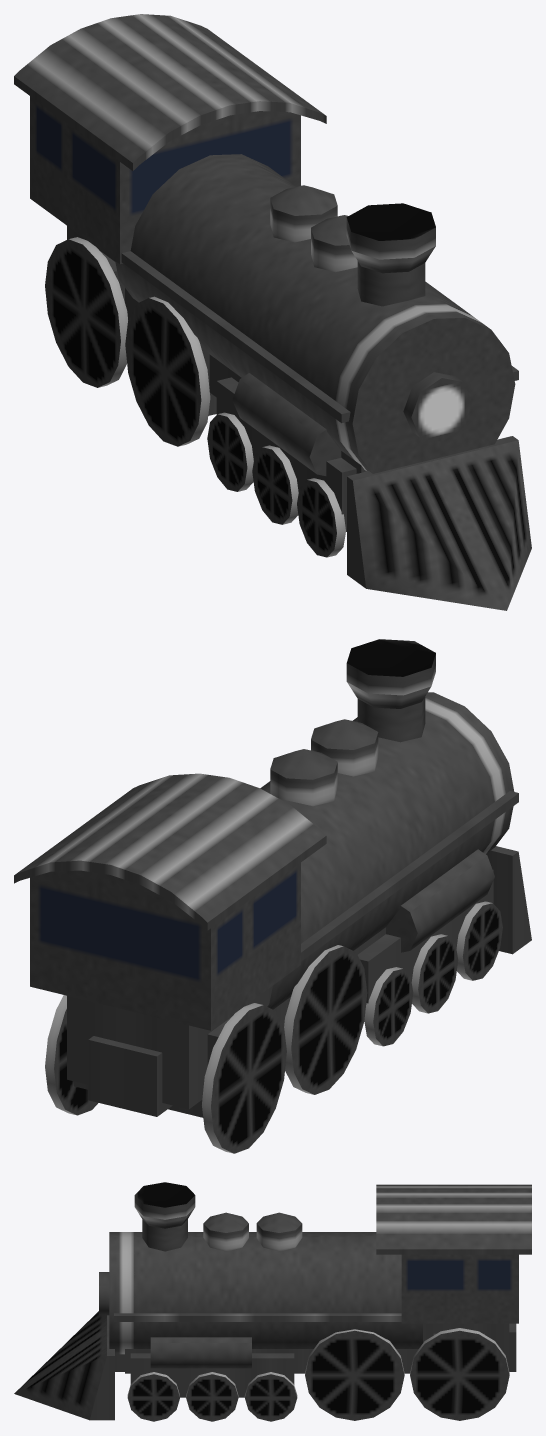
The model's file is trainEngine 1.fbx.
3 views of the same model, one above another, from view 1: azimuth 30°, elevation 25°; view 2: azimuth 150°, elevation 25°; view 3: azimuth 270°, elevation 25° (orthographic). The views are drawn at different scales.
Parts seen in each view (by area): view 1: snail2:shell:polySurface15; view 2: snail2:shell:polySurface15; view 3: snail2:shell:polySurface15.
Boxes of the visible parts, x1,y1,x2,y2 form: snail2:shell:polySurface15: (14,14,531,610); snail2:shell:polySurface15: (14,639,531,1153); snail2:shell:polySurface15: (14,1182,531,1421).
Size of the model in its own units: 3.96 by 5.99 by 14.04.
